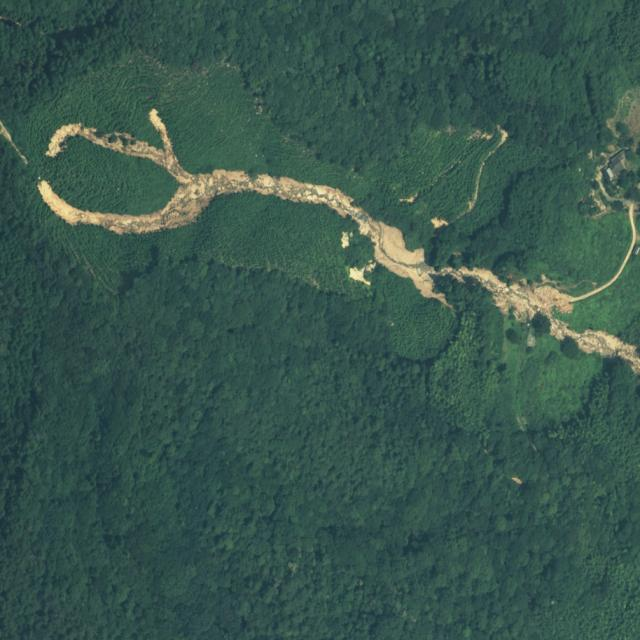landslide: (37, 108, 640, 375), (571, 202, 637, 303)
